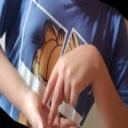hand: (42, 43, 99, 128)
